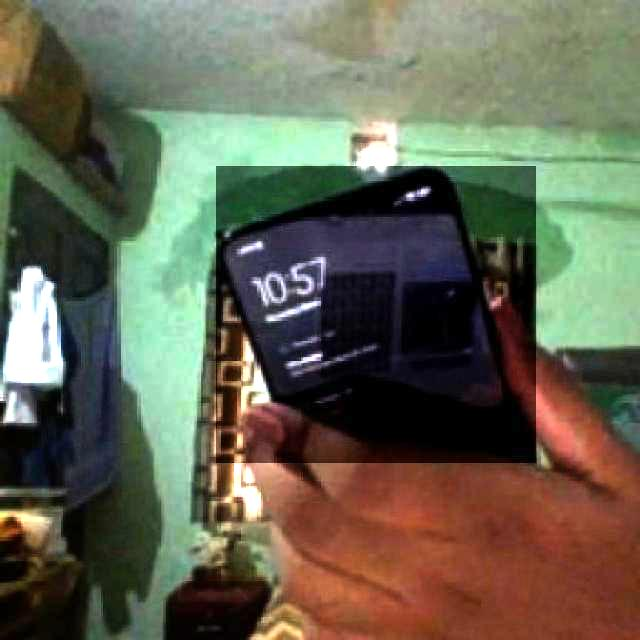phone: (216, 166, 536, 463)
